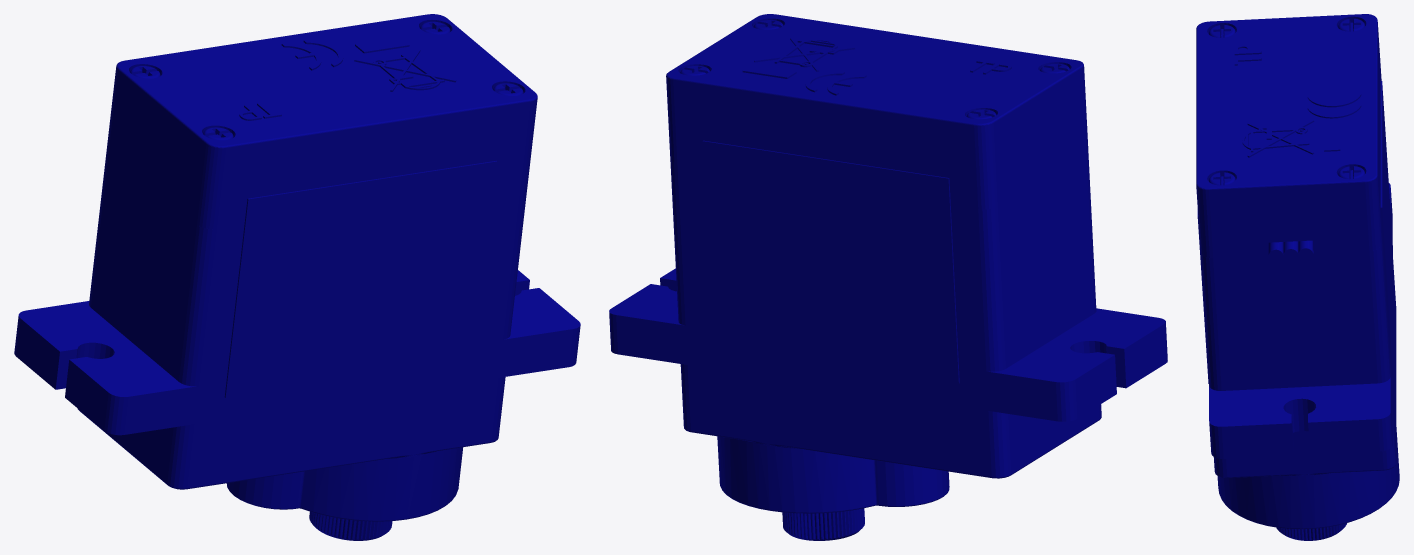
The model's file is UMIRobot_UMIRobot_link_5_vis_4.dae.
3 renders of one model, left to right at view 1: azimuth 30°, elevation 25°; view 2: azimuth 150°, elevation 25°; view 3: azimuth 270°, elevation 25°, orthographic. The views are drawn at different scales.
Visible parts, largest first — view 1: node; view 2: node; view 3: node.
Part boxes in pixels (x1,y1,x2,y2): node: [14, 14, 580, 540]; node: [609, 14, 1167, 540]; node: [1196, 14, 1399, 540].
Size of the model in its own units: 0.0322 by 0.0316 by 0.0137.
